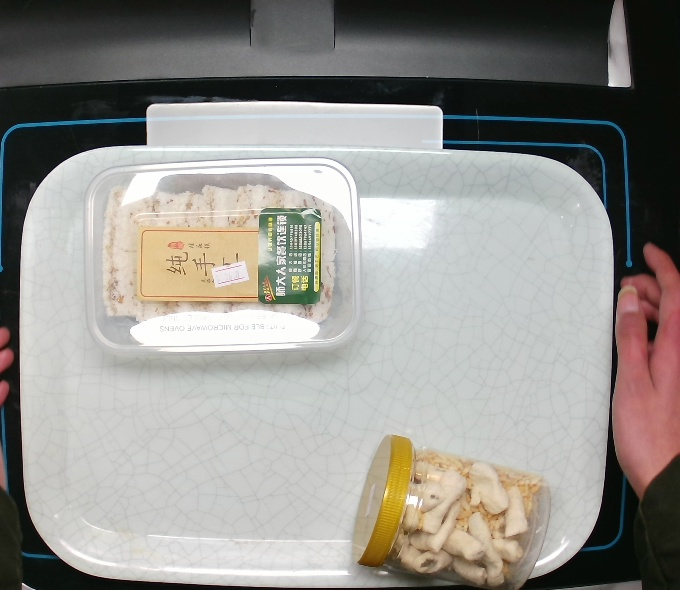wcq-GuiHuaGao: (79, 153, 371, 361)
wcq-MaiYaTang: (345, 429, 560, 590)
